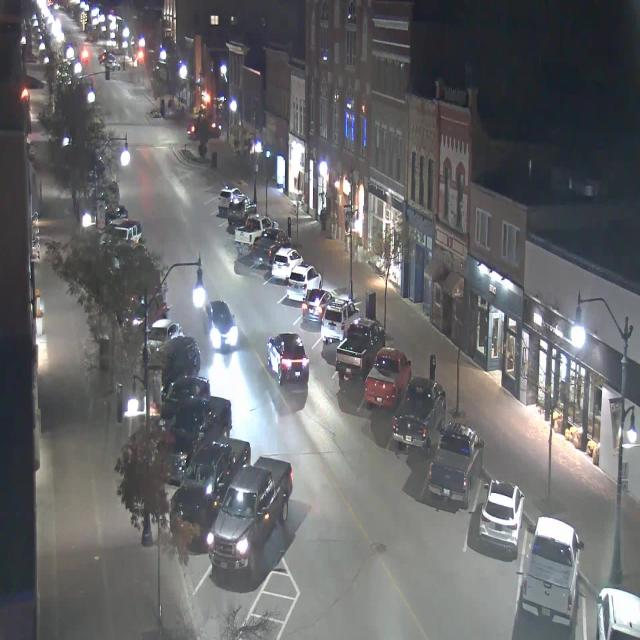occupied: (206, 455, 293, 573), (520, 514, 584, 628), (182, 423, 256, 496), (427, 420, 484, 509), (392, 375, 446, 456), (168, 389, 242, 448), (478, 478, 525, 558), (364, 346, 411, 410), (330, 325, 375, 390), (595, 586, 640, 639), (160, 362, 216, 404), (158, 327, 204, 370), (320, 301, 359, 345), (300, 284, 333, 330), (285, 266, 322, 304), (232, 214, 264, 256), (250, 228, 283, 268), (272, 246, 301, 282), (228, 196, 254, 223), (215, 187, 240, 211)
